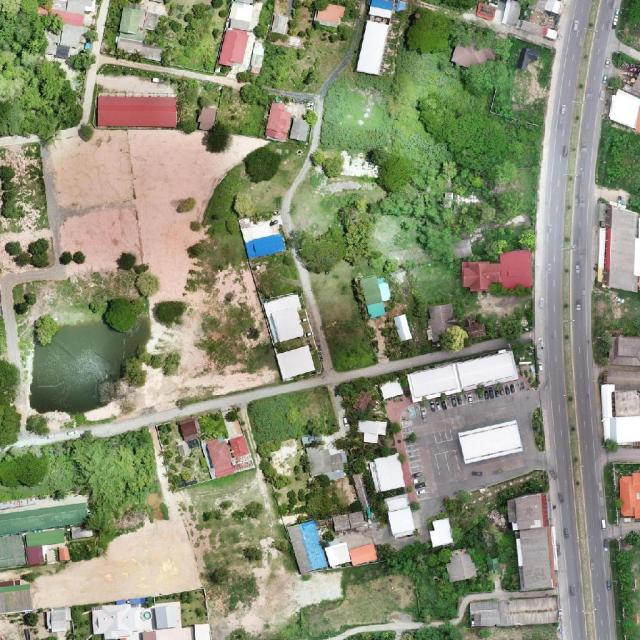building: (505, 491, 565, 594), (406, 350, 520, 403), (114, 2, 170, 62), (457, 419, 524, 464), (0, 503, 89, 536), (470, 596, 559, 627), (201, 430, 255, 480), (239, 210, 290, 260), (97, 96, 176, 127), (287, 520, 329, 575), (356, 20, 390, 76), (359, 271, 396, 319), (230, 29, 264, 80), (307, 443, 348, 482), (275, 344, 317, 382), (368, 453, 407, 493), (385, 493, 416, 539), (605, 89, 640, 129), (500, 250, 535, 289), (218, 27, 250, 69), (425, 303, 459, 342), (264, 101, 295, 143), (269, 306, 304, 343), (461, 261, 502, 292), (444, 547, 478, 583), (451, 45, 495, 69), (262, 292, 302, 318), (517, 19, 559, 42), (313, 1, 346, 29), (427, 517, 455, 548), (0, 589, 33, 615), (323, 540, 352, 569), (332, 511, 368, 534), (175, 415, 203, 444), (228, 1, 254, 31), (348, 542, 379, 567), (45, 606, 72, 633), (288, 116, 313, 144), (195, 103, 219, 132), (517, 46, 541, 73), (392, 313, 413, 342), (378, 379, 404, 400), (357, 419, 388, 434), (474, 2, 496, 21), (369, 7, 393, 18)
dryland: (32, 114, 234, 294), (210, 122, 266, 173)
greenland: (296, 3, 583, 291), (365, 195, 481, 334), (69, 428, 167, 544), (385, 532, 472, 632), (444, 485, 520, 591), (84, 253, 170, 340), (244, 381, 341, 457), (448, 212, 539, 269), (445, 16, 517, 64), (323, 315, 381, 373), (610, 530, 640, 640), (472, 293, 536, 343), (288, 225, 348, 276), (402, 6, 457, 61), (506, 60, 552, 125), (336, 198, 377, 266), (489, 469, 549, 515), (458, 57, 513, 101), (312, 19, 354, 75), (97, 0, 129, 55), (25, 309, 63, 349), (435, 321, 472, 358), (0, 165, 24, 219), (307, 149, 347, 180), (5, 239, 49, 267), (260, 41, 282, 87), (12, 283, 39, 317), (593, 329, 614, 366), (155, 301, 185, 325), (489, 87, 498, 113)
metalled_road: (127, 358, 398, 431), (99, 54, 241, 88), (295, 262, 336, 376), (457, 578, 558, 615), (275, 154, 313, 233), (325, 618, 426, 640), (90, 410, 151, 439), (77, 57, 101, 124), (18, 427, 92, 448), (459, 336, 507, 362), (90, 0, 109, 57), (407, 351, 446, 369), (606, 446, 640, 463), (616, 41, 640, 61), (310, 119, 321, 151), (55, 126, 80, 140)
